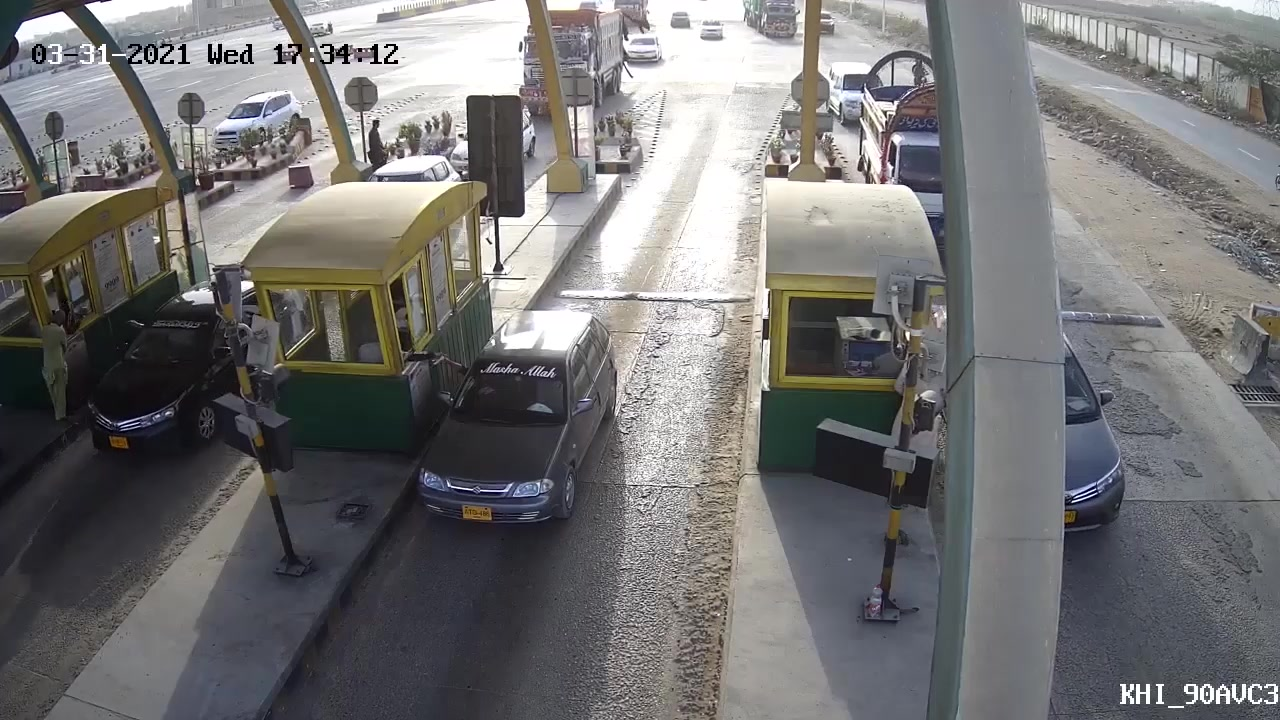F1: (420, 312, 617, 533)
